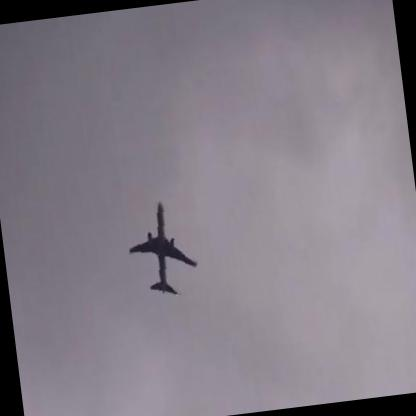plane: (121, 196, 203, 300)
